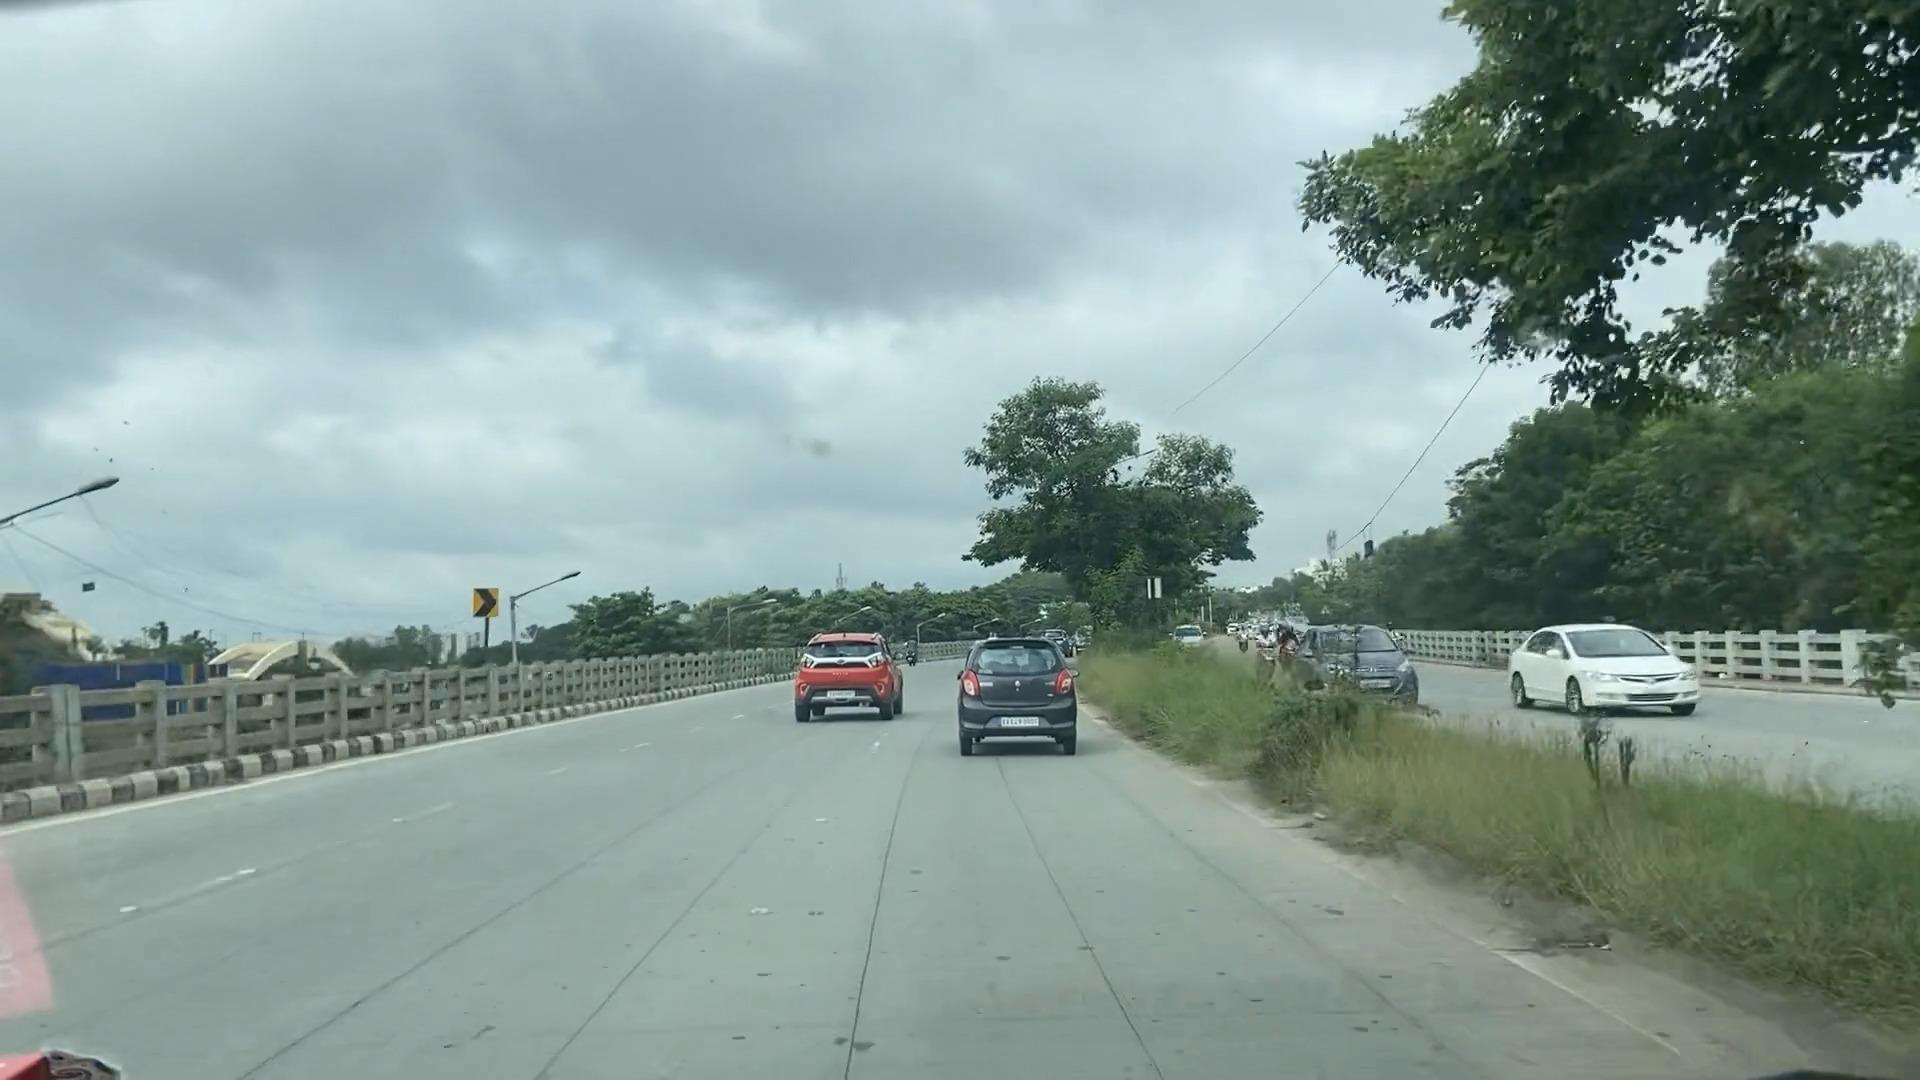LMV: (953, 642, 1075, 752), (794, 626, 903, 716)
